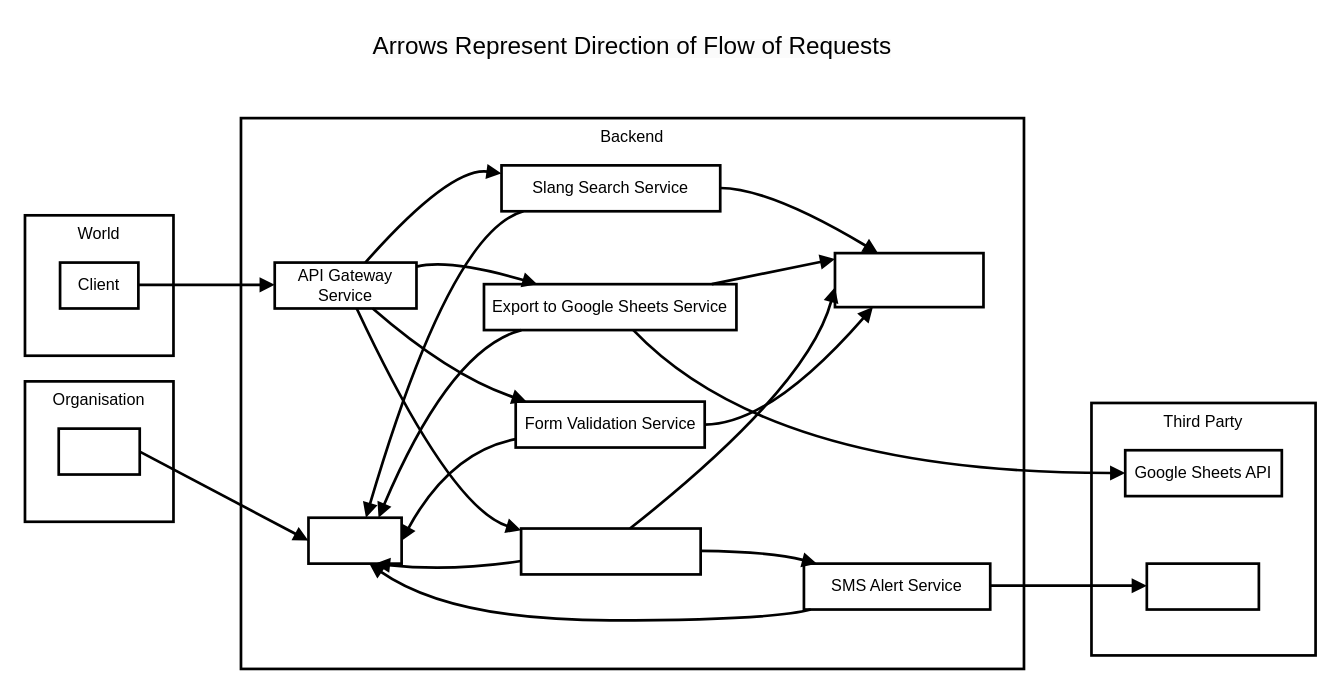
The diagram is 1339 pixels wide and 693 high, and some of its shapes have lost their labels. The centre of each missing label's shape, as x and y in pixels:
"Admin" goes at point (98, 451).
"Database" goes at point (908, 279).
"Form Handler Service" goes at point (610, 550).
"Logging" goes at point (354, 540).
"Twilio API" goes at point (1202, 586).
